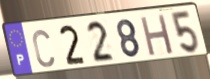2: (86, 19, 117, 65), (59, 24, 87, 66)
5: (168, 8, 202, 55)
8: (116, 18, 142, 59)
C: (31, 28, 56, 69)
H: (139, 13, 176, 58)
